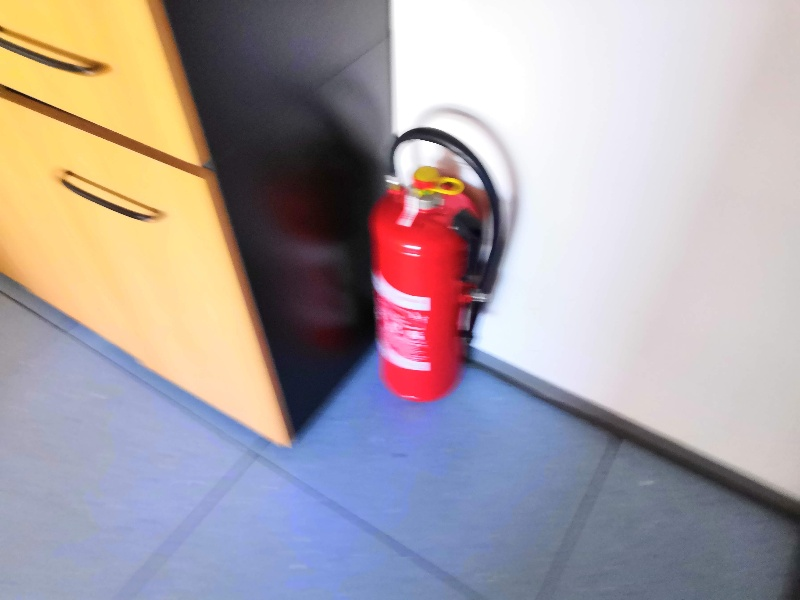vataparat: (368, 130, 501, 400)
